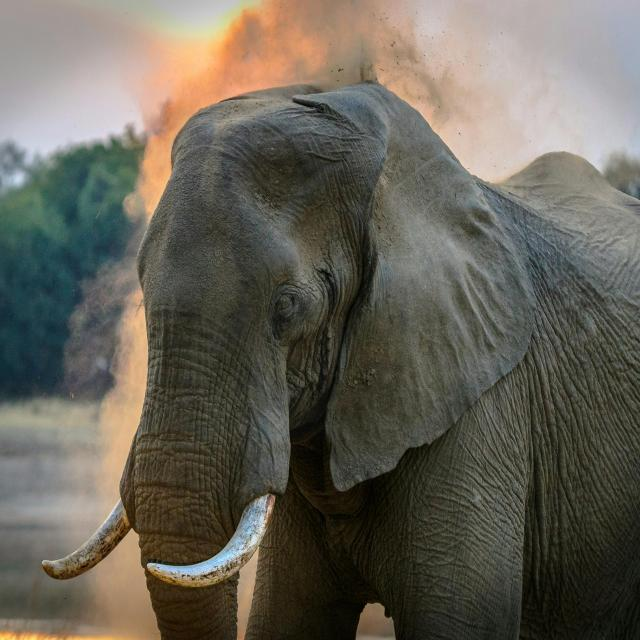Elephant: (45, 73, 640, 640)
